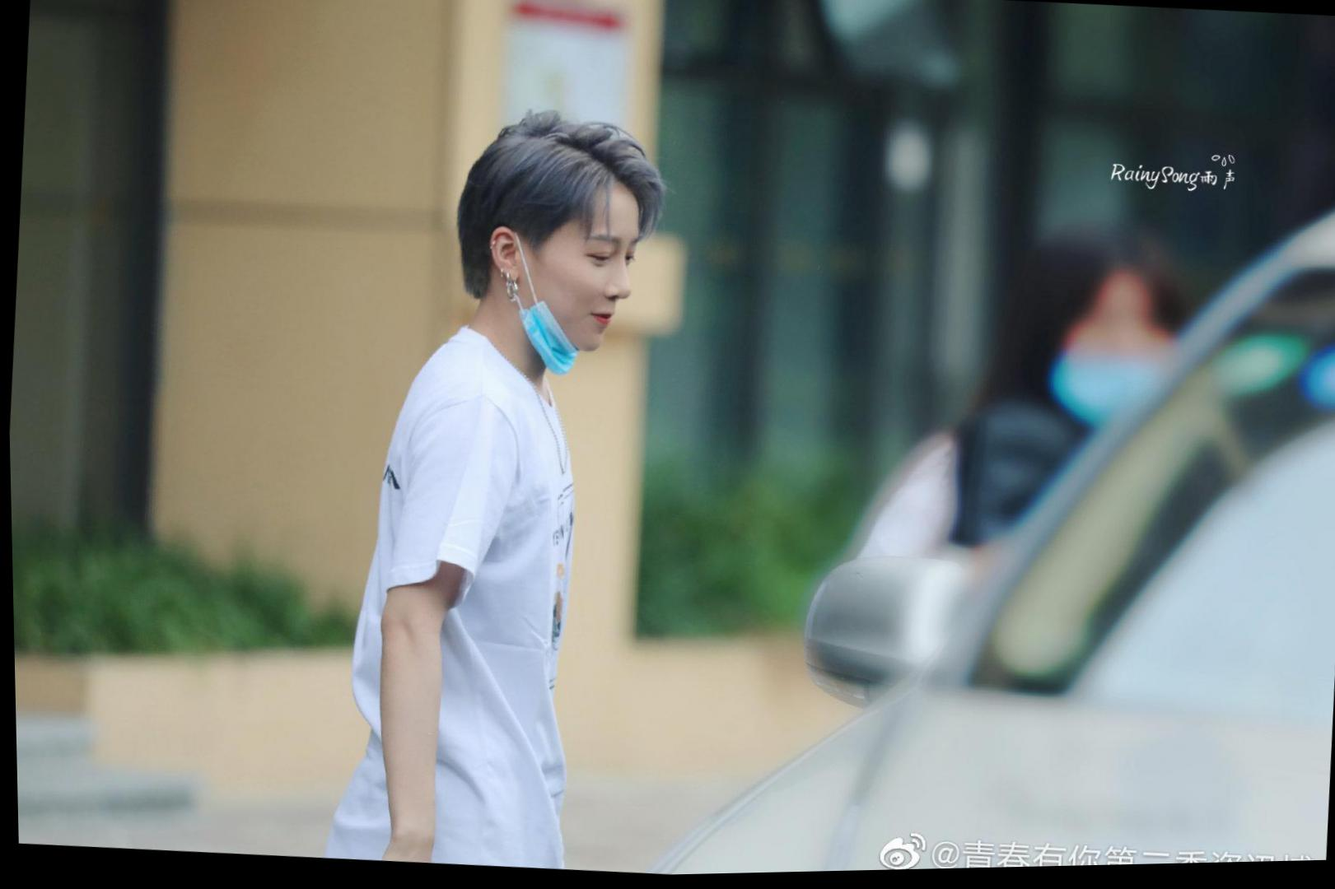WRONG: (519, 206, 645, 365)
